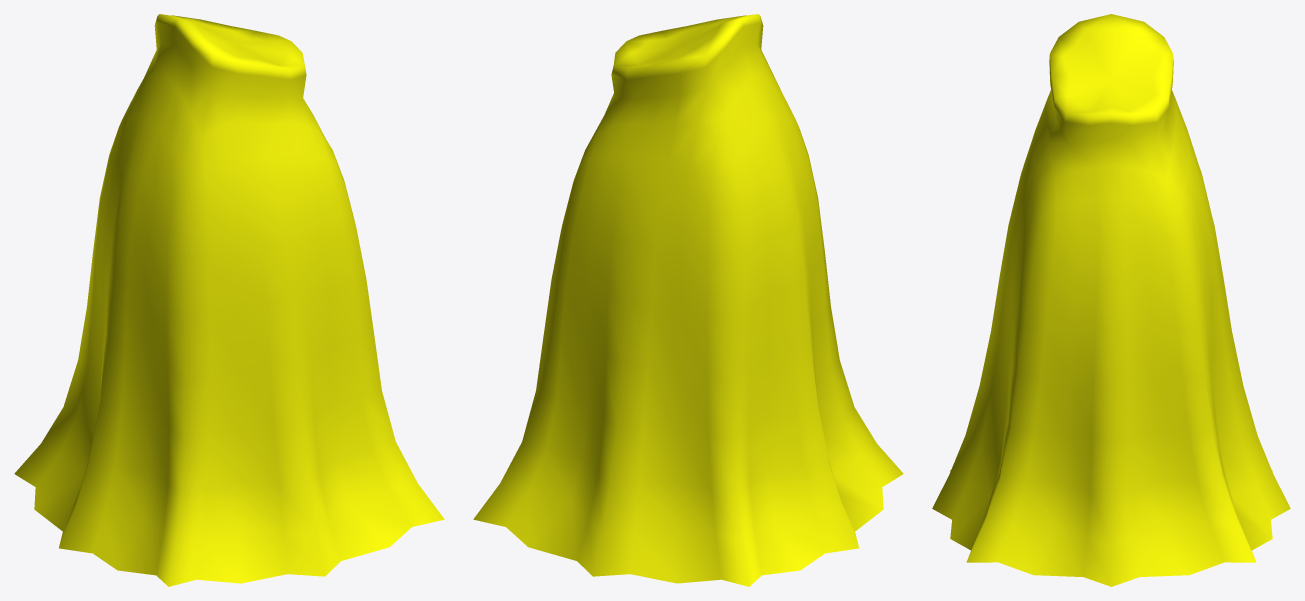
The model's file is SorrowEnemyBody.fbx.
The picture shows the model from 3 angles, left to right: view 1: azimuth 30°, elevation 25°; view 2: azimuth 150°, elevation 25°; view 3: azimuth 270°, elevation 25°; orthographic projection. The views are drawn at different scales.
Visible parts, largest first — view 1: SorrowBody; view 2: SorrowBody; view 3: SorrowBody.
Part boxes in pixels (left/top/right/bottom): SorrowBody: left=14, top=14, right=444, bottom=586; SorrowBody: left=473, top=14, right=903, bottom=586; SorrowBody: left=932, top=14, right=1290, bottom=586.
Bounding box in the file's own units: 88.5 × 124 × 85.72.
